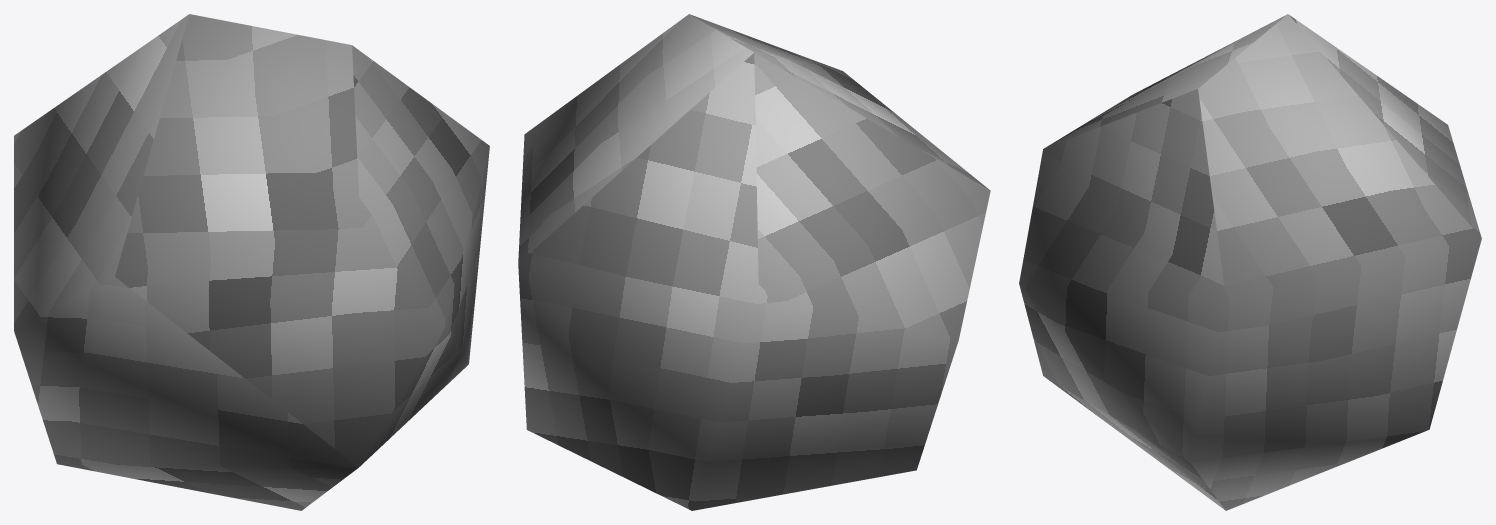
File: Meteorite.fbx
The picture shows the model from 3 angles, left to right: view 1: azimuth 30°, elevation 25°; view 2: azimuth 150°, elevation 25°; view 3: azimuth 270°, elevation 25°; orthographic projection. The views are drawn at different scales.
Visible parts, largest first — view 1: Meteorite; view 2: Meteorite; view 3: Meteorite.
Boxes of the visible parts, box(x1,y1,x2,y2) form: Meteorite: box(14, 14, 489, 510); Meteorite: box(518, 14, 990, 510); Meteorite: box(1019, 14, 1481, 510).
Bounding box in the file's own units: 70.41 × 72.07 × 65.6.
